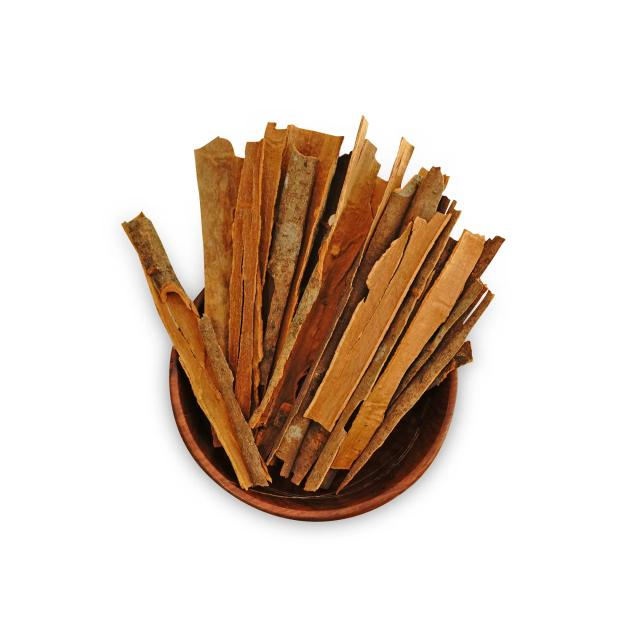Cinnamon: (122, 119, 504, 492)
